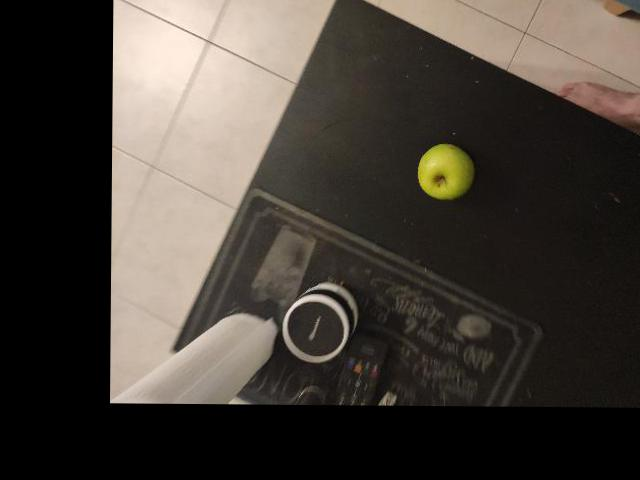apple: (321, 42, 387, 108)
